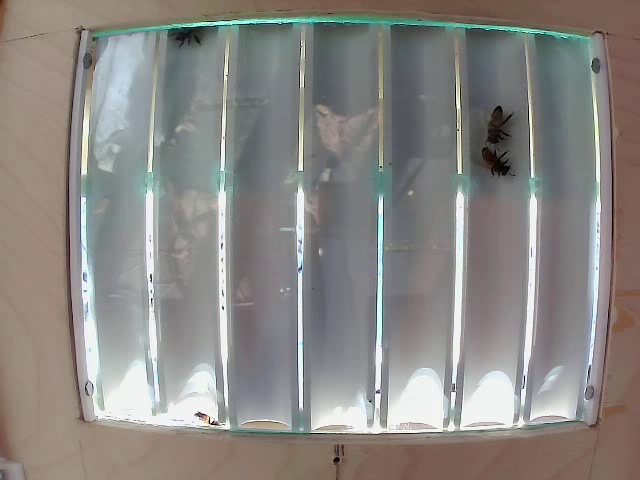bee: (472, 104, 513, 143), (470, 138, 507, 175)
